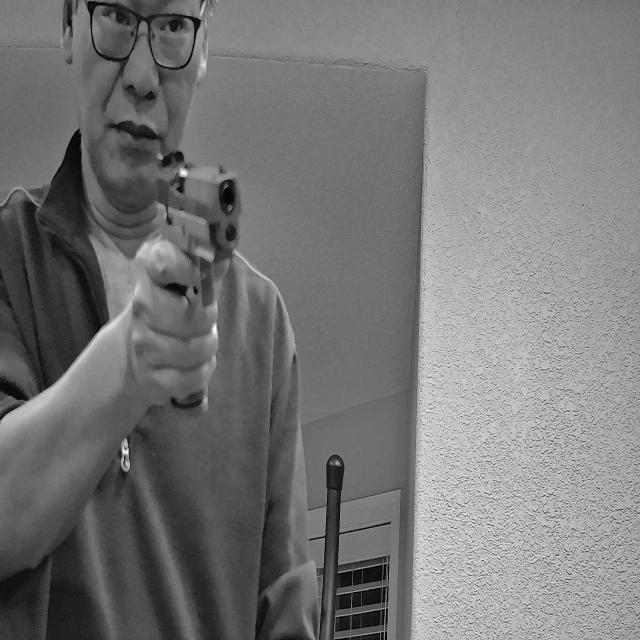Hand-Gun: (107, 35, 299, 428)
